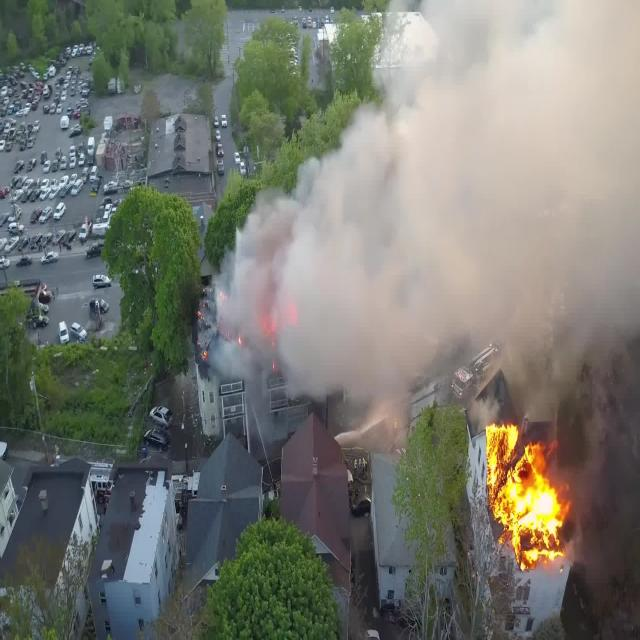Fire: (478, 419, 574, 563)
Smoke: (304, 106, 639, 391)
